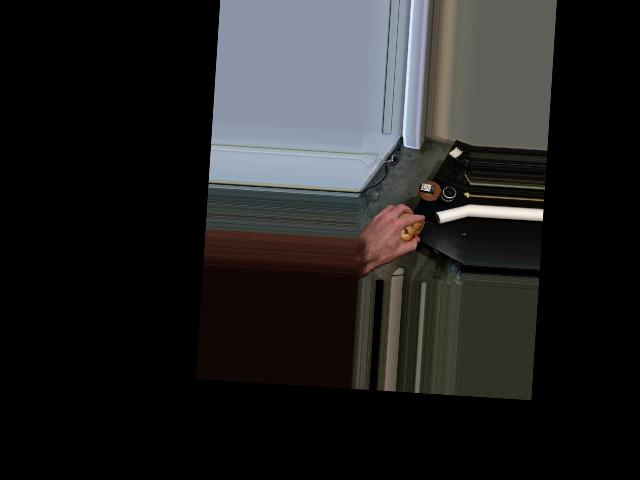onion: (380, 212, 426, 251)
